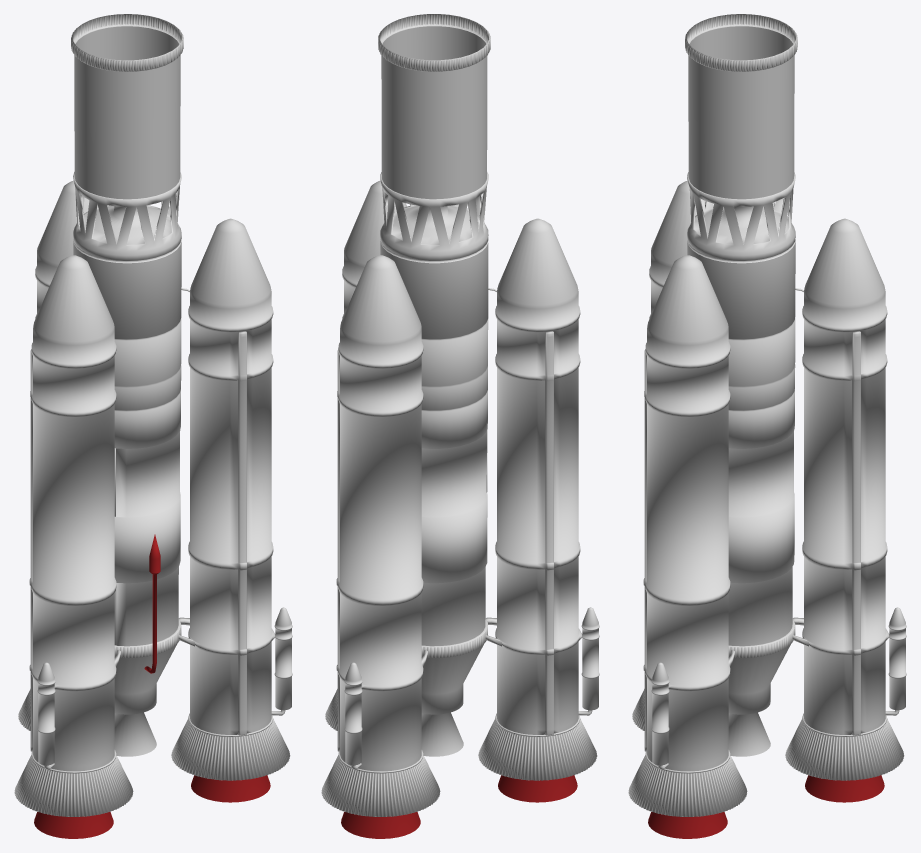
Rendered from onderkant-rocket.glb.
The picture shows the model from 3 angles, left to right: view 1: azimuth 30°, elevation 25°; view 2: azimuth 150°, elevation 25°; view 3: azimuth 270°, elevation 25°; orthographic projection.
Visible parts, largest first — view 1: ISRO GSLV MK III Rocket Launch Vehicle, ISRO GSLV MK III Rocket Launch Vehicle.012, ISRO GSLV MK III Rocket Launch Vehicle.006, ISRO GSLV MK III Rocket Launch Vehicle.027, ISRO GSLV MK III Rocket Launch Vehicle.028, ISRO GSLV MK III Rocket Launch Vehicle.021, ISRO GSLV MK III Rocket Launch Vehicle.022, ISRO GSLV MK III Rocket Launch Vehicle.016, ISRO GSLV MK III Rocket Launch Vehicle.019, ISRO GSLV MK III Rocket Launch Vehicle.013, ISRO GSLV MK III Rocket Launch Vehicle.023, ISRO GSLV MK III Rocket Launch Vehicle.024 (+4 smaller); view 2: ISRO GSLV MK III Rocket Launch Vehicle.012, ISRO GSLV MK III Rocket Launch Vehicle.013, ISRO GSLV MK III Rocket Launch Vehicle.006, ISRO GSLV MK III Rocket Launch Vehicle.027, ISRO GSLV MK III Rocket Launch Vehicle.028, ISRO GSLV MK III Rocket Launch Vehicle.022, ISRO GSLV MK III Rocket Launch Vehicle.020, ISRO GSLV MK III Rocket Launch Vehicle.016, ISRO GSLV MK III Rocket Launch Vehicle.019, ISRO GSLV MK III Rocket Launch Vehicle, ISRO GSLV MK III Rocket Launch Vehicle.024, ISRO GSLV MK III Rocket Launch Vehicle.025 (+3 smaller); view 3: ISRO GSLV MK III Rocket Launch Vehicle.013, ISRO GSLV MK III Rocket Launch Vehicle, ISRO GSLV MK III Rocket Launch Vehicle.006, ISRO GSLV MK III Rocket Launch Vehicle.027, ISRO GSLV MK III Rocket Launch Vehicle.028, ISRO GSLV MK III Rocket Launch Vehicle.020, ISRO GSLV MK III Rocket Launch Vehicle.021, ISRO GSLV MK III Rocket Launch Vehicle.016, ISRO GSLV MK III Rocket Launch Vehicle.019, ISRO GSLV MK III Rocket Launch Vehicle.012, ISRO GSLV MK III Rocket Launch Vehicle.025, ISRO GSLV MK III Rocket Launch Vehicle.023 (+3 smaller).
Part boxes in pixels (box(x1,y1,x2,y2)): ISRO GSLV MK III Rocket Launch Vehicle: box(188, 218, 275, 735); ISRO GSLV MK III Rocket Launch Vehicle.012: box(29, 255, 116, 771); ISRO GSLV MK III Rocket Launch Vehicle.006: box(73, 241, 181, 646); ISRO GSLV MK III Rocket Launch Vehicle.027: box(74, 26, 180, 199); ISRO GSLV MK III Rocket Launch Vehicle.028: box(73, 172, 181, 263); ISRO GSLV MK III Rocket Launch Vehicle.021: box(171, 713, 290, 780); ISRO GSLV MK III Rocket Launch Vehicle.022: box(14, 750, 133, 816); ISRO GSLV MK III Rocket Launch Vehicle.016: box(114, 644, 176, 756); ISRO GSLV MK III Rocket Launch Vehicle.019: box(71, 14, 183, 71); ISRO GSLV MK III Rocket Launch Vehicle.013: box(35, 180, 89, 318); ISRO GSLV MK III Rocket Launch Vehicle.023: box(271, 607, 292, 715); ISRO GSLV MK III Rocket Launch Vehicle.024: box(37, 662, 55, 769); ISRO GSLV MK III Rocket Launch Vehicle.012: box(495, 218, 582, 735); ISRO GSLV MK III Rocket Launch Vehicle.013: box(336, 255, 423, 771); ISRO GSLV MK III Rocket Launch Vehicle.006: box(380, 241, 488, 646); ISRO GSLV MK III Rocket Launch Vehicle.027: box(381, 26, 487, 199); ISRO GSLV MK III Rocket Launch Vehicle.028: box(380, 172, 488, 263); ISRO GSLV MK III Rocket Launch Vehicle.022: box(478, 713, 597, 780); ISRO GSLV MK III Rocket Launch Vehicle.020: box(321, 750, 440, 816); ISRO GSLV MK III Rocket Launch Vehicle.016: box(421, 644, 483, 756); ISRO GSLV MK III Rocket Launch Vehicle.019: box(378, 14, 490, 71); ISRO GSLV MK III Rocket Launch Vehicle: box(342, 180, 406, 318); ISRO GSLV MK III Rocket Launch Vehicle.024: box(578, 607, 599, 715); ISRO GSLV MK III Rocket Launch Vehicle.025: box(344, 662, 362, 769); ISRO GSLV MK III Rocket Launch Vehicle.013: box(802, 218, 889, 735); ISRO GSLV MK III Rocket Launch Vehicle: box(643, 255, 730, 771); ISRO GSLV MK III Rocket Launch Vehicle.006: box(687, 240, 795, 646); ISRO GSLV MK III Rocket Launch Vehicle.027: box(688, 26, 794, 199); ISRO GSLV MK III Rocket Launch Vehicle.028: box(687, 172, 795, 263); ISRO GSLV MK III Rocket Launch Vehicle.020: box(785, 713, 904, 780); ISRO GSLV MK III Rocket Launch Vehicle.021: box(628, 750, 747, 816); ISRO GSLV MK III Rocket Launch Vehicle.016: box(728, 644, 790, 756); ISRO GSLV MK III Rocket Launch Vehicle.019: box(685, 14, 797, 71); ISRO GSLV MK III Rocket Launch Vehicle.012: box(649, 180, 713, 318); ISRO GSLV MK III Rocket Launch Vehicle.025: box(885, 607, 906, 715); ISRO GSLV MK III Rocket Launch Vehicle.023: box(651, 662, 669, 769).
Bounding box in the file's own units: 2.95 × 8.17 × 2.76.
